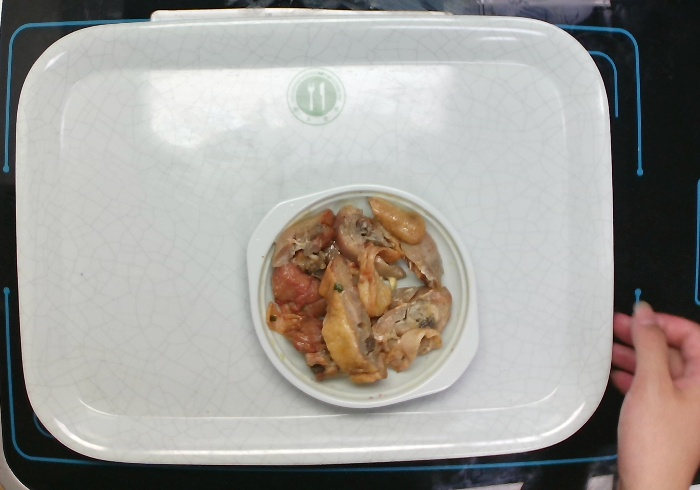JYsf-Shuang_Er_Pan: (230, 178, 487, 412)
